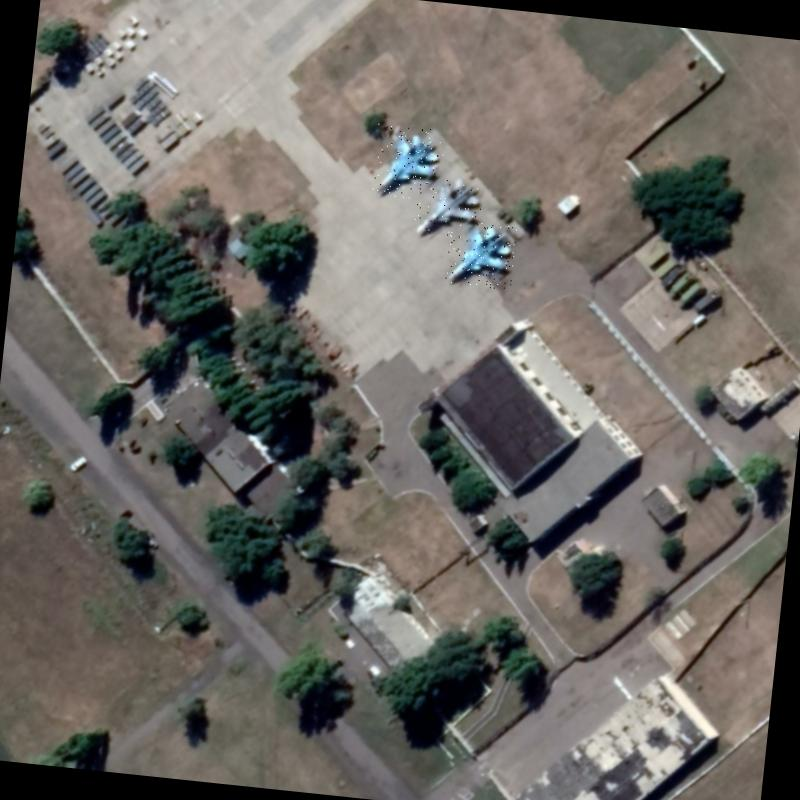A19: (370, 123, 446, 201), (443, 219, 518, 291), (412, 172, 484, 241)
